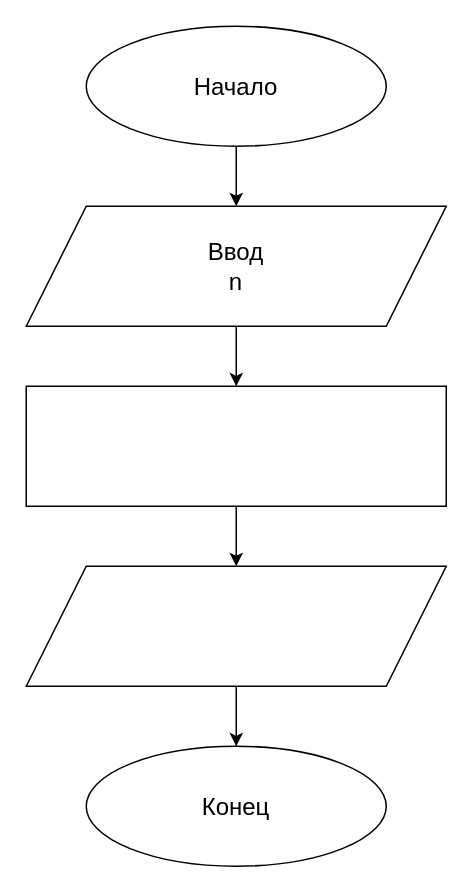
Image size: 473x893. Some labels were removed from this diagram. Here are the shapes that lost their labels. From the top down, the centre of each, then its label:
[235,445]: a = ord("a") + n - 1
[235,625]: Вывод a
